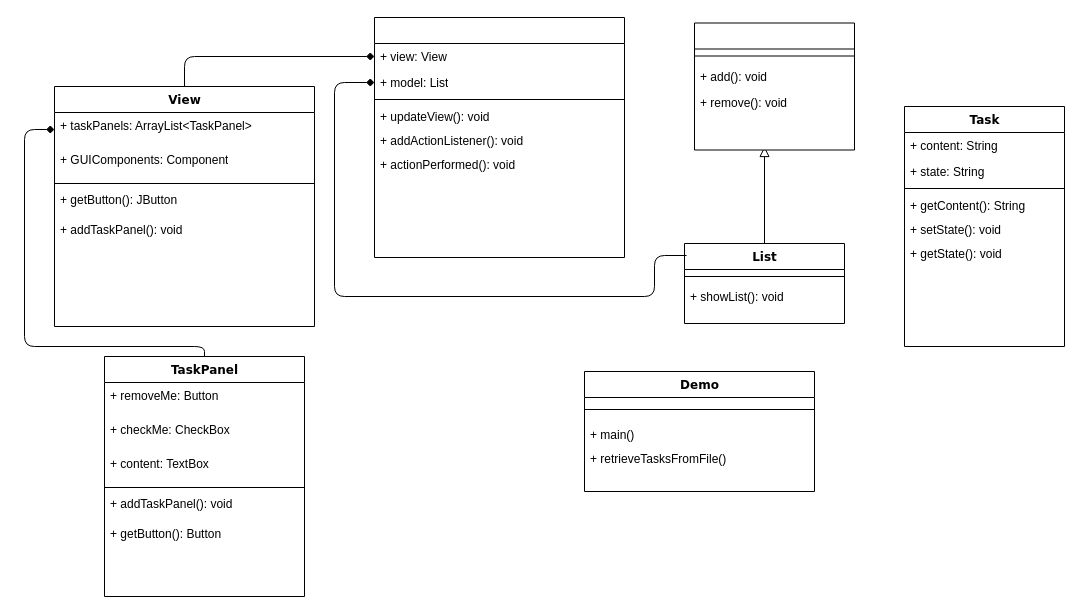
Some shapes in this 1082 by 614 pixel diagram are drawn without their labels. The shapes that lost their labels are listed below. From the top down, each one's box as (x1, y1, x2, y2) in pixels, then its label:
(694, 22, 854, 150): ArrayList<Task>
(374, 16, 624, 258): Controller
